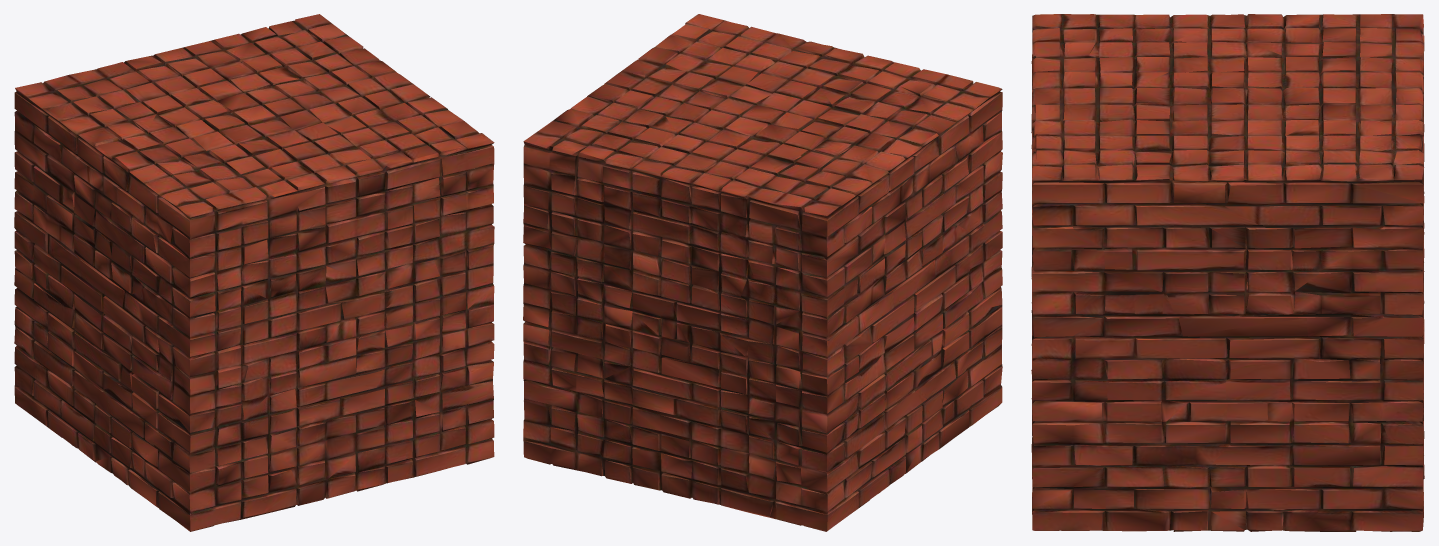
Rendered from block_brick_idle.glb.
The picture shows the model from 3 angles, left to right: view 1: azimuth 30°, elevation 25°; view 2: azimuth 150°, elevation 25°; view 3: azimuth 270°, elevation 25°; orthographic projection. The views are drawn at different scales.
Visible parts, largest first — view 1: tripo_node_9d525be3-ecfc-402f-a804-63a42e66dab6; view 2: tripo_node_9d525be3-ecfc-402f-a804-63a42e66dab6; view 3: tripo_node_9d525be3-ecfc-402f-a804-63a42e66dab6.
Boxes of the visible parts, x1=… form: tripo_node_9d525be3-ecfc-402f-a804-63a42e66dab6: x1=14, y1=14, x2=494, y2=531; tripo_node_9d525be3-ecfc-402f-a804-63a42e66dab6: x1=523, y1=14, x2=1002, y2=531; tripo_node_9d525be3-ecfc-402f-a804-63a42e66dab6: x1=1031, y1=14, x2=1424, y2=531.
Bounding box in the file's own units: 0.9998 × 1 × 1.
1 material, 1 textured.
